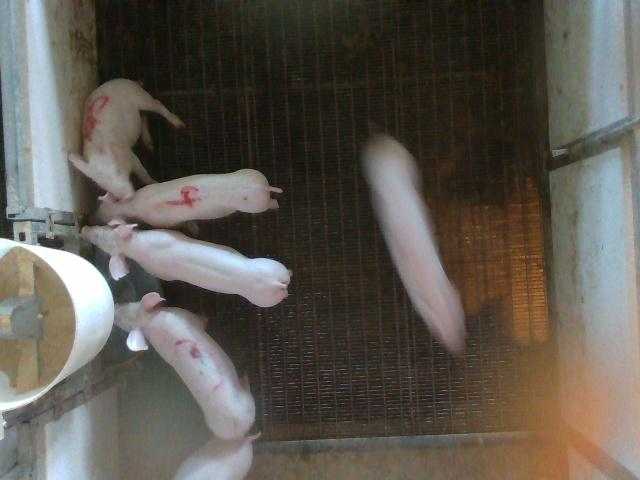pig-2: (361, 134, 466, 354)
pig-3: (115, 292, 254, 439)
pig-4: (90, 169, 281, 228)
pig-5: (69, 79, 184, 199)
